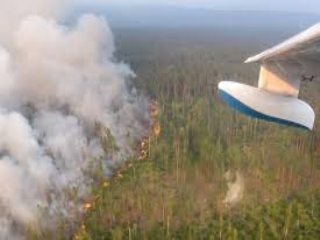fire: (141, 96, 168, 148)
smoke: (5, 110, 75, 226), (73, 55, 141, 166)
